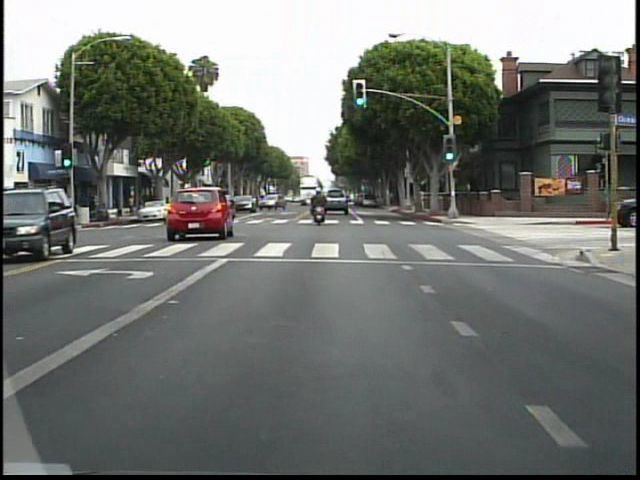person: (308, 181, 332, 226)
